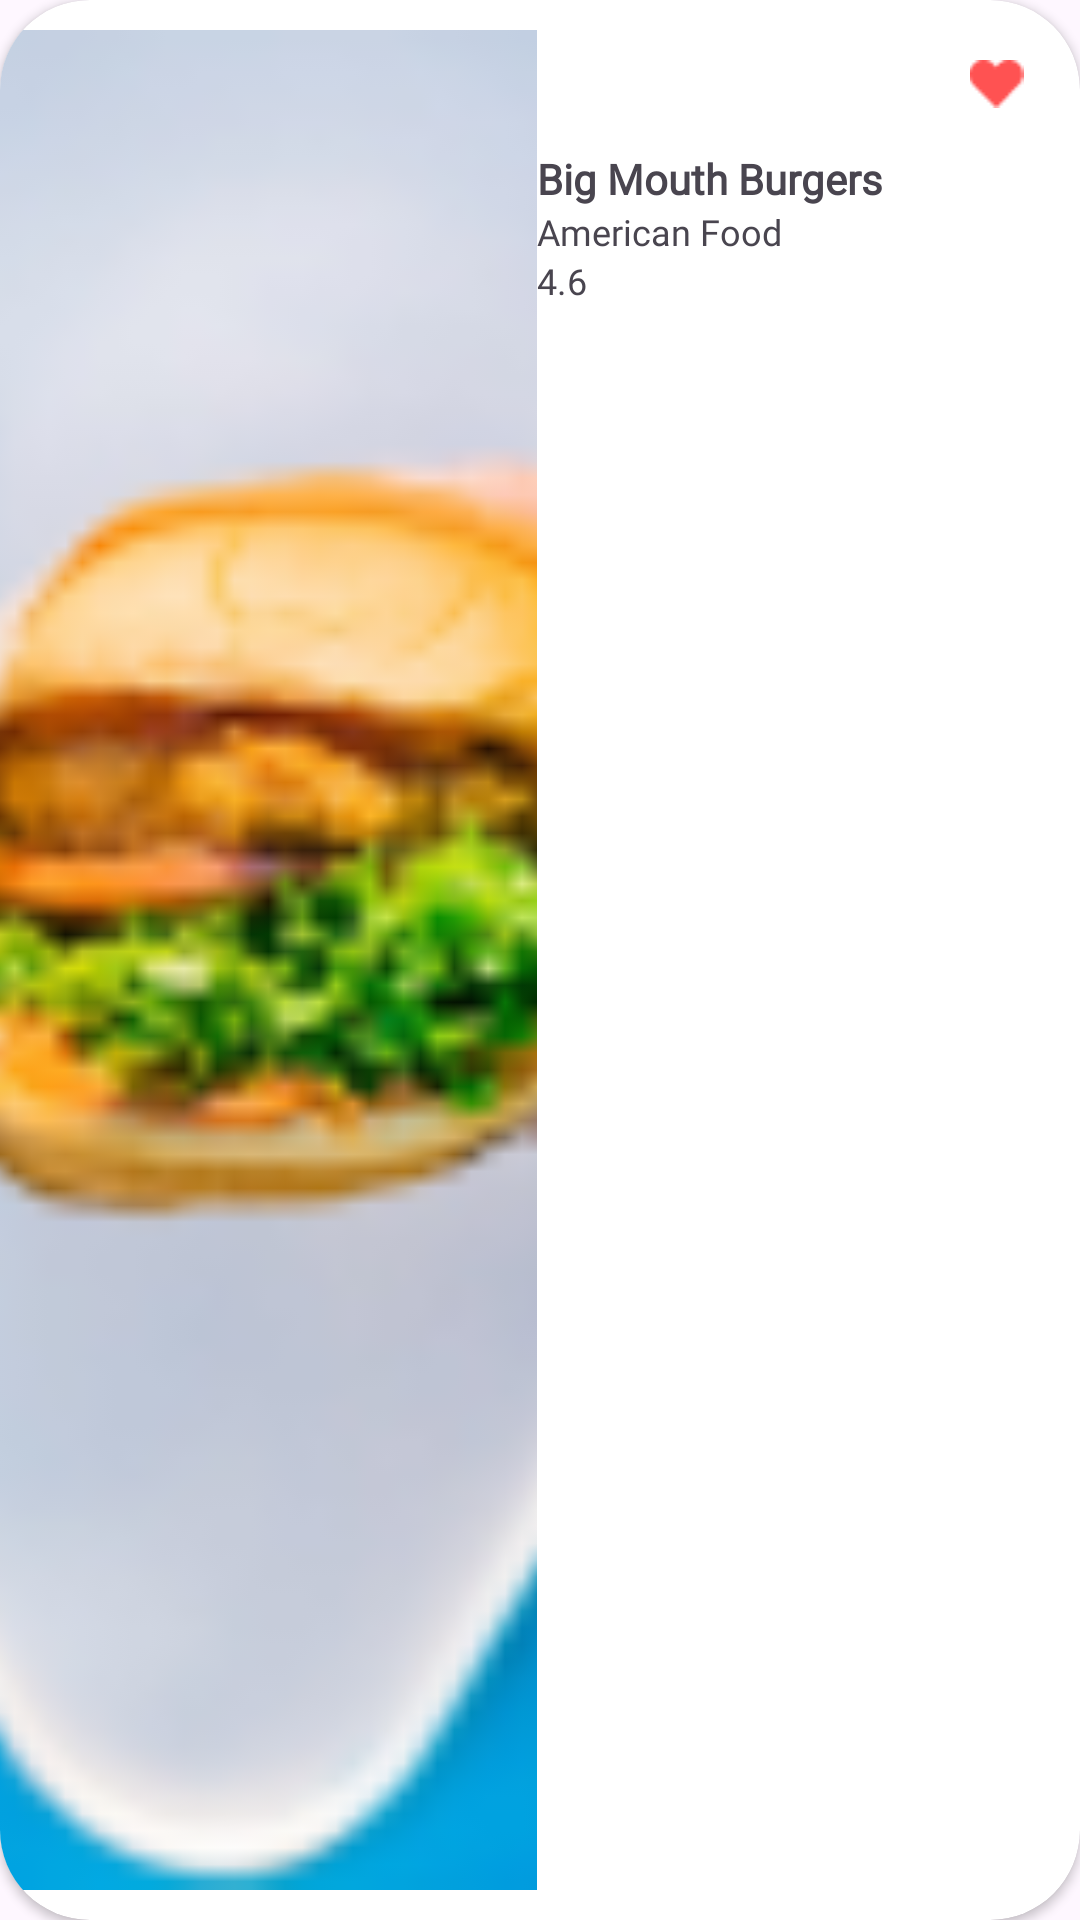

Icons on this 1080 x 1920 Android screen, each with its box as bbox=[x1, y1, x2, y2]:
heart: bbox=[970, 60, 1024, 108]
